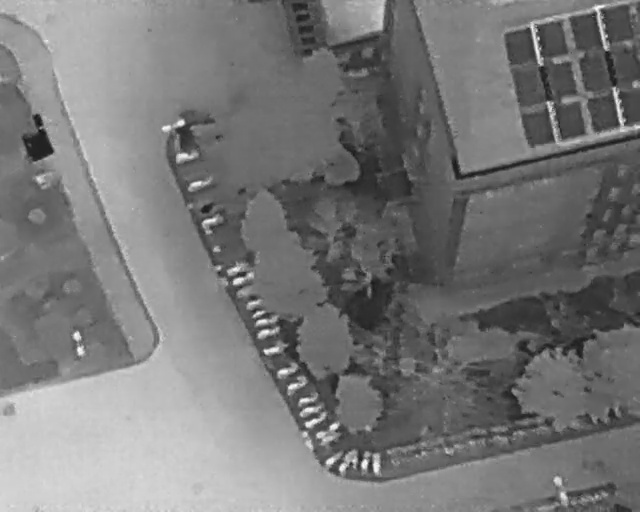Bicycle: (314, 421, 345, 448), (336, 447, 360, 479), (185, 171, 216, 193), (283, 373, 311, 395), (323, 445, 346, 470), (304, 409, 330, 431), (225, 257, 252, 278), (295, 401, 326, 419), (261, 338, 290, 357), (200, 211, 226, 232), (232, 268, 259, 288), (254, 312, 282, 330), (244, 293, 269, 313), (294, 391, 320, 409), (256, 323, 282, 340), (275, 362, 301, 379), (248, 305, 272, 322), (175, 147, 200, 163), (362, 449, 372, 477), (372, 450, 381, 478)
Person: (72, 327, 82, 344), (75, 345, 85, 357)
